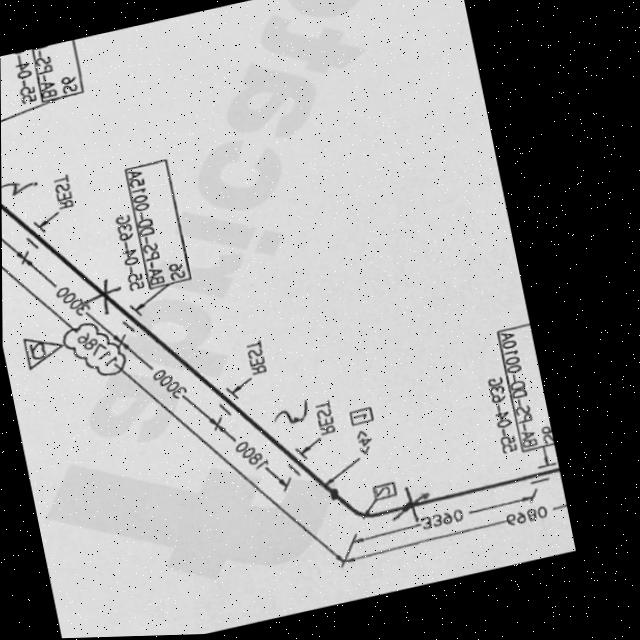Item number: (122, 162, 195, 292), (491, 325, 552, 460), (27, 40, 87, 104), (369, 482, 401, 505), (346, 407, 375, 430)
Measrement: (1, 257, 345, 567), (16, 250, 129, 351), (111, 333, 225, 433), (208, 416, 294, 496), (1, 226, 34, 268)
Pipeline: (1, 193, 483, 527)
other: (108, 212, 147, 295), (482, 377, 517, 460), (10, 49, 42, 106), (307, 398, 338, 440), (240, 339, 269, 380)
